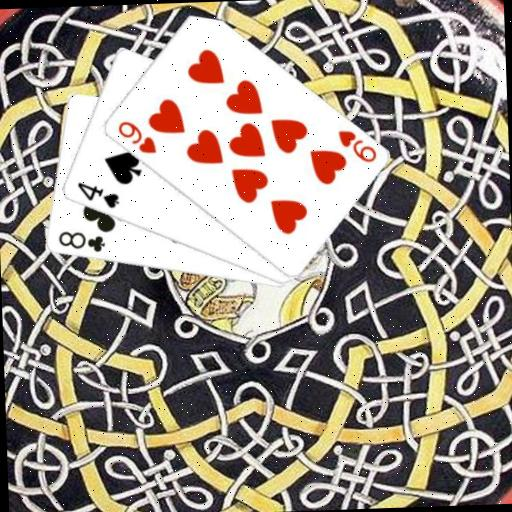4S: (74, 178, 121, 212)
8C: (54, 226, 106, 255)
9H: (114, 117, 158, 157), (333, 125, 377, 165)
